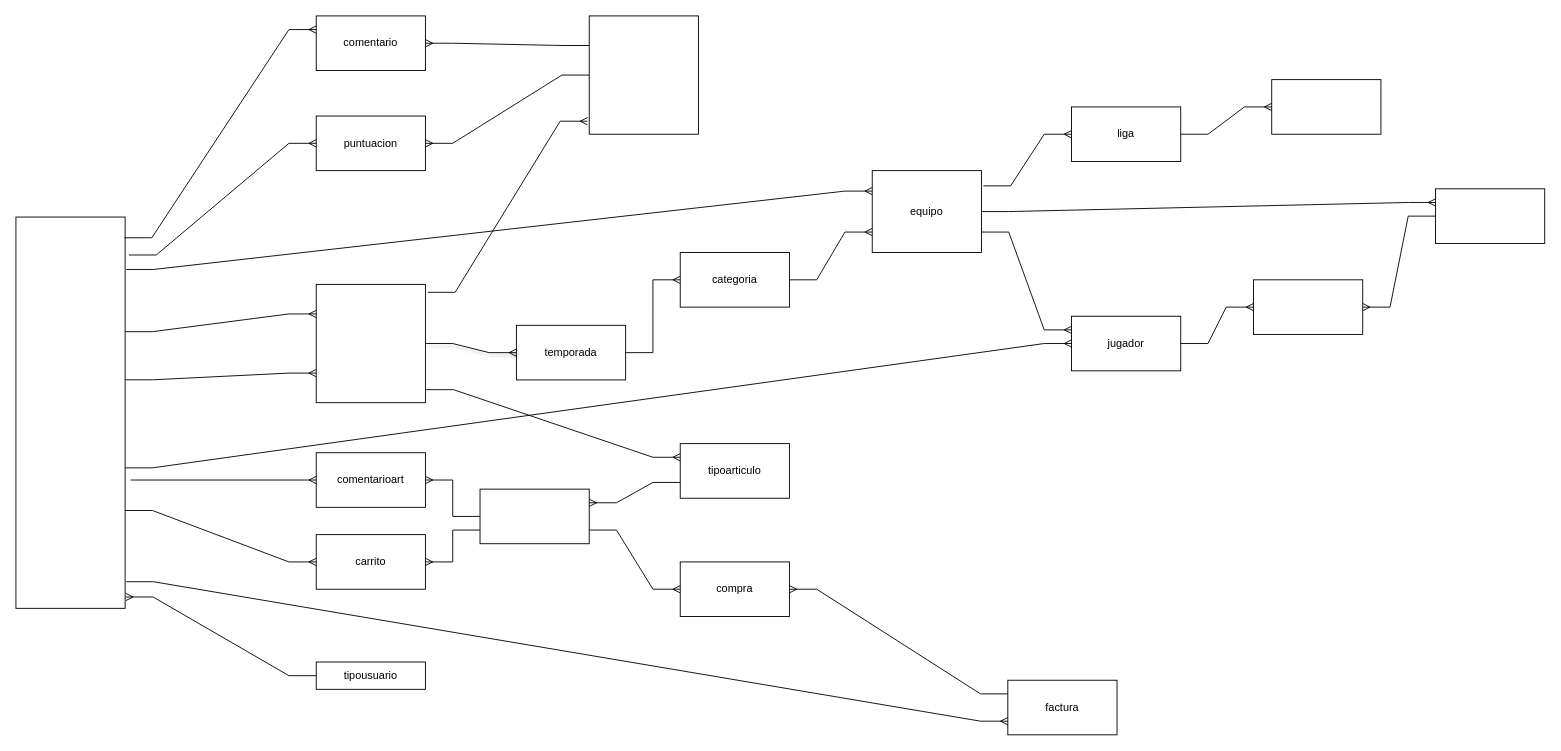
Some shapes in this 1561 by 751 pixel diagram are drawn without their labels. Each missing label, with the centre of its shape:
articulo: the point at 534,516
club: the point at 370,343
cuota: the point at 1490,215
noticia: the point at 643,74
pago + fecha: the point at 1308,306
partido: the point at 1326,106
usuario: the point at 70,412
